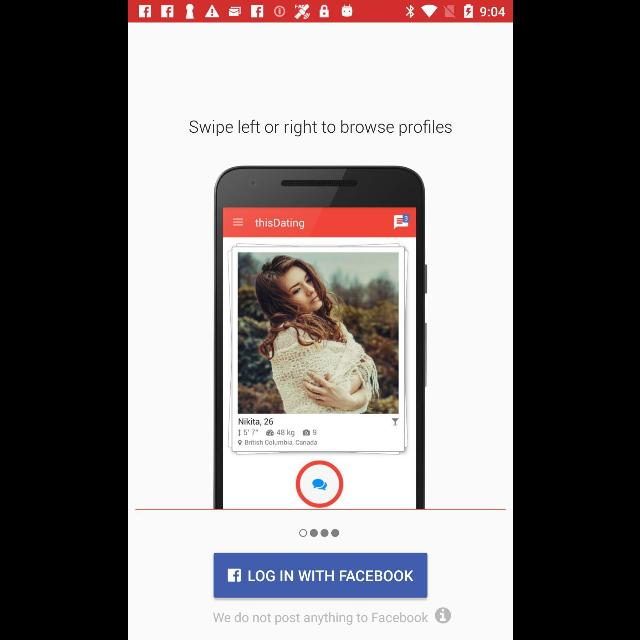icon: (434, 607, 450, 623)
image: (213, 166, 427, 508)
pageindicator: (298, 528, 340, 538)
text: (188, 120, 452, 136), (212, 612, 428, 624)
textbutton: (213, 552, 427, 598)
uppertaskbar: (128, 1, 512, 23)
